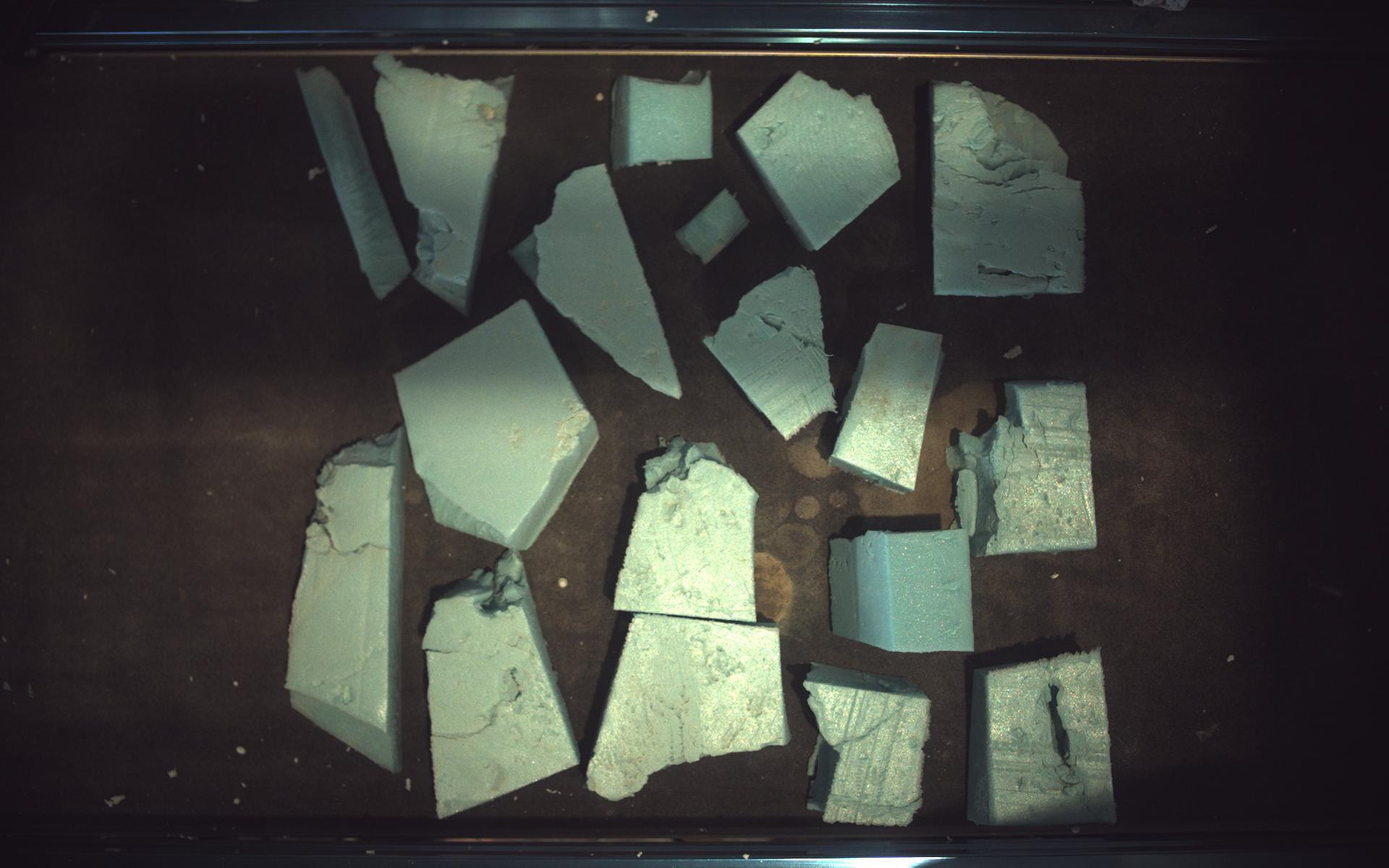foam: (394, 299, 599, 550), (422, 550, 579, 820), (285, 427, 405, 773), (509, 163, 683, 398), (587, 615, 791, 802), (373, 52, 514, 314), (933, 80, 1087, 296), (738, 70, 902, 250), (296, 66, 411, 299), (615, 438, 759, 624), (969, 649, 1118, 827), (948, 381, 1098, 556), (705, 266, 838, 438), (805, 665, 931, 827), (831, 323, 944, 492), (832, 530, 976, 653), (612, 69, 713, 169), (676, 187, 750, 263)
